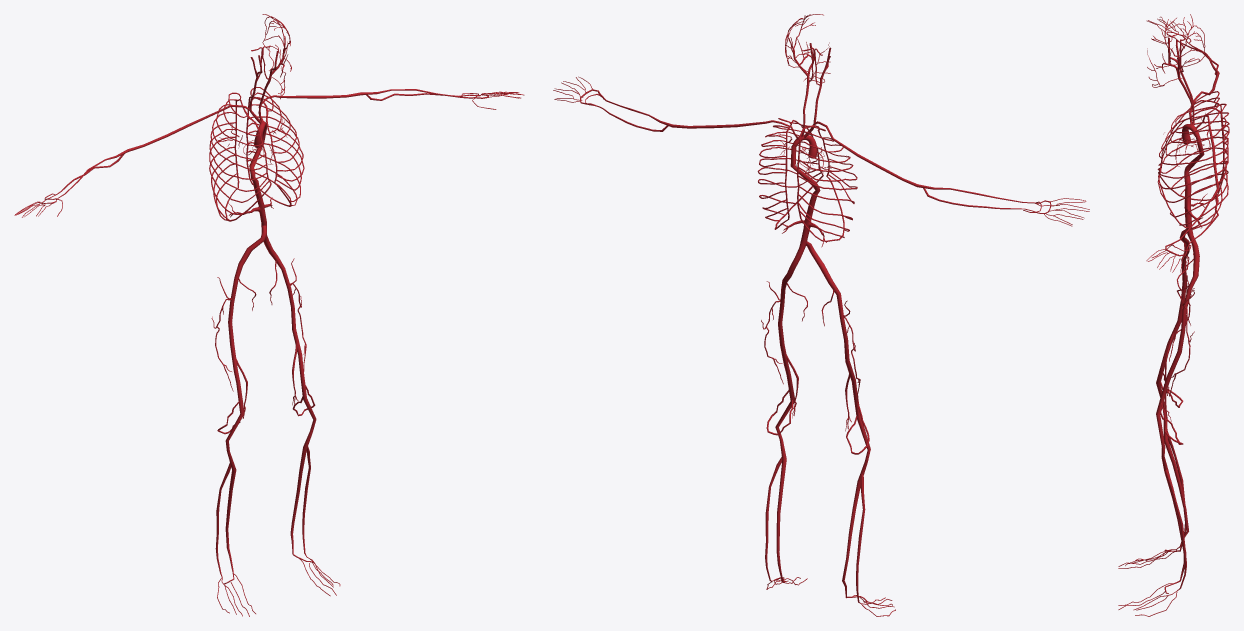
File: 男性_循环系统_动脉.fbx
3 views of the same model, side by side, from view 1: azimuth 30°, elevation 25°; view 2: azimuth 150°, elevation 25°; view 3: azimuth 270°, elevation 25° (orthographic). The views are drawn at different scales.
Visible parts, largest first — view 1: 男性_循环系统_动脉; view 2: 男性_循环系统_动脉; view 3: 男性_循环系统_动脉.
Part boxes in pixels (x1,y1,x2,y2): 男性_循环系统_动脉: (14, 14, 524, 616); 男性_循环系统_动脉: (553, 14, 1089, 616); 男性_循环系统_动脉: (1118, 14, 1229, 616).
Bounding box in the file's own units: 170 × 183 × 31.94.
